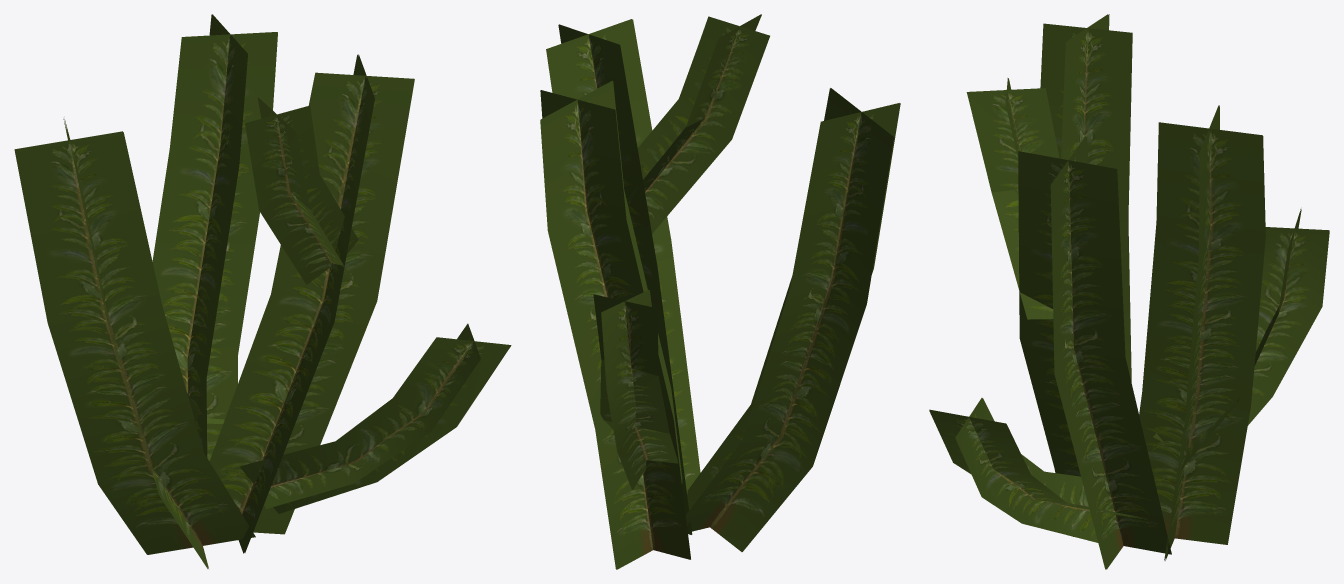
Rendered from Salix viminalis_m.FBX.
The picture shows the model from 3 angles, left to right: view 1: azimuth 30°, elevation 25°; view 2: azimuth 150°, elevation 25°; view 3: azimuth 270°, elevation 25°; orthographic projection. The views are drawn at different scales.
Visible parts, largest first — view 1: Salix viminalis; view 2: Salix viminalis; view 3: Salix viminalis.
Boxes of the visible parts, x1,y1,x2,y2 form: Salix viminalis: (14, 14, 511, 568); Salix viminalis: (540, 14, 900, 569); Salix viminalis: (929, 14, 1329, 569).
Bounding box in the file's own units: 78.68 × 85.57 × 68.35.
